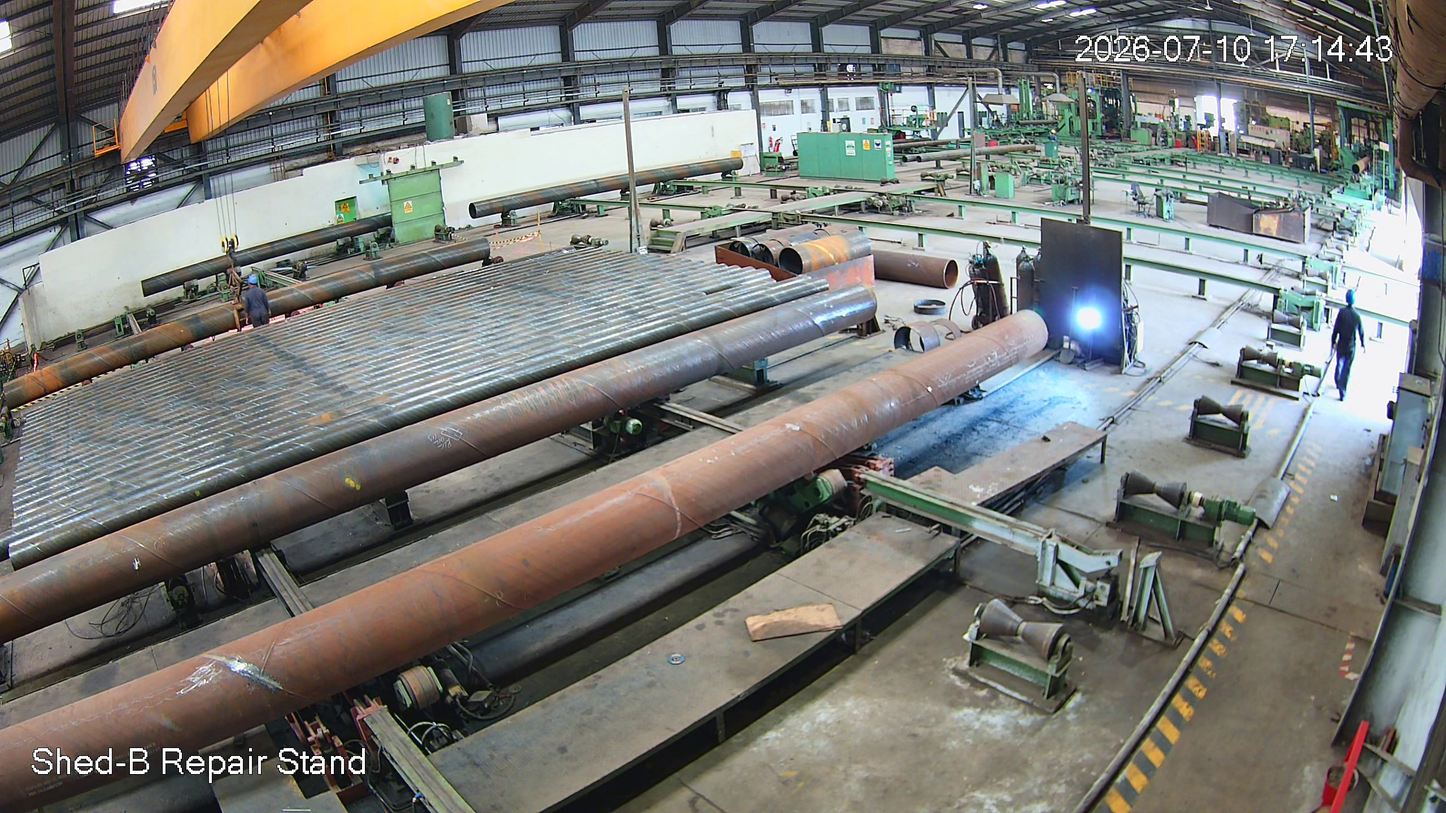Helmet: (1341, 287, 1359, 311), (247, 275, 261, 289)
Person: (1331, 290, 1367, 397), (242, 277, 273, 330)
